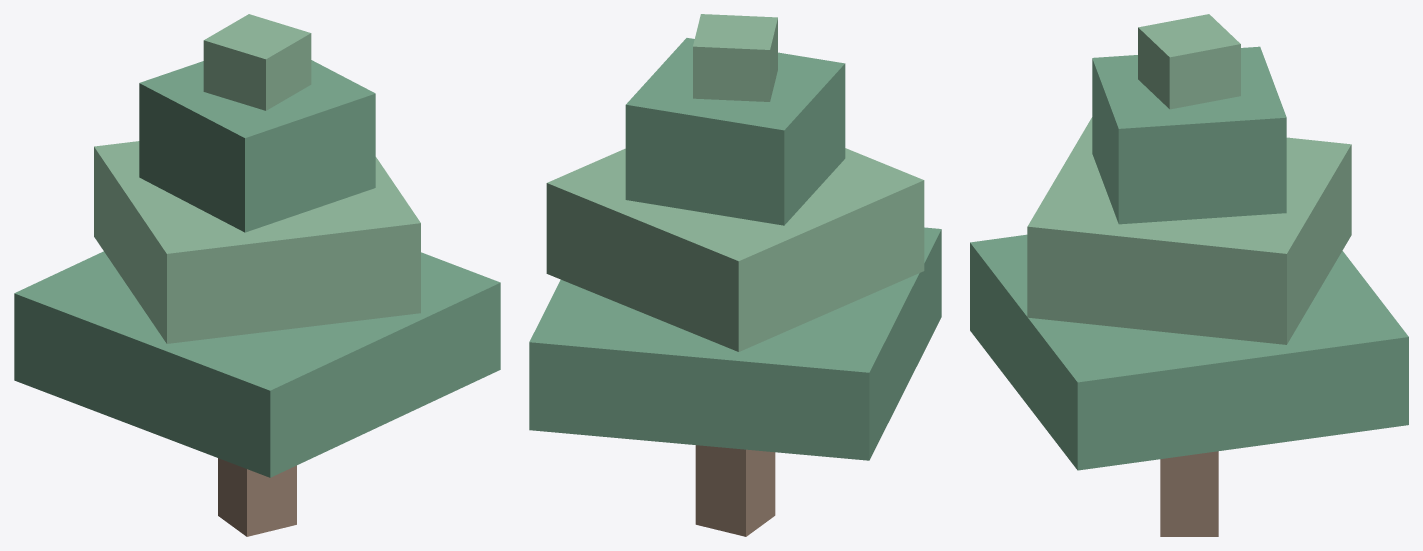
Rendered from tree-pine.glb.
3 renders of one model, left to right at view 1: azimuth 30°, elevation 25°; view 2: azimuth 150°, elevation 25°; view 3: azimuth 270°, elevation 25°, orthographic.
Parts seen in each view (by area): view 1: pine-low, pine-mid, pine-top, pine-tip, pine-trunk; view 2: pine-low, pine-mid, pine-top, pine-tip, pine-trunk; view 3: pine-low, pine-mid, pine-top, pine-tip, pine-trunk.
Boxes of the visible parts, x1,y1,x2,y2 form: pine-low: (14, 251, 500, 477); pine-mid: (94, 141, 420, 343); pine-top: (139, 60, 375, 232); pine-tip: (203, 14, 311, 110); pine-trunk: (218, 458, 296, 536); pine-low: (529, 227, 941, 460); pine-mid: (546, 148, 924, 351); pine-top: (625, 38, 845, 225); pine-tip: (693, 14, 777, 101); pine-trunk: (695, 445, 775, 536); pine-low: (970, 234, 1408, 470); pine-mid: (1027, 117, 1351, 344); pine-top: (1092, 46, 1286, 224); pine-tip: (1138, 14, 1240, 109); pine-trunk: (1160, 451, 1218, 536).
Size of the model in its own units: 2.71 by 3.33 by 2.71.
